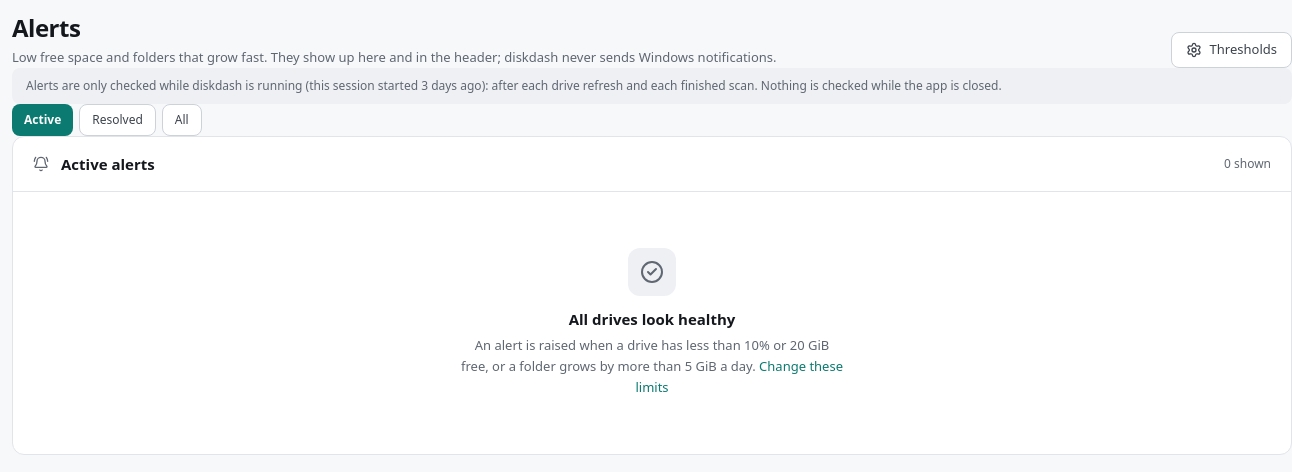
Test: AlertsPage › shows resolved alerts under their own filter
Click the button "Resolved". click: point(118, 120)
box: [79, 104, 156, 136]
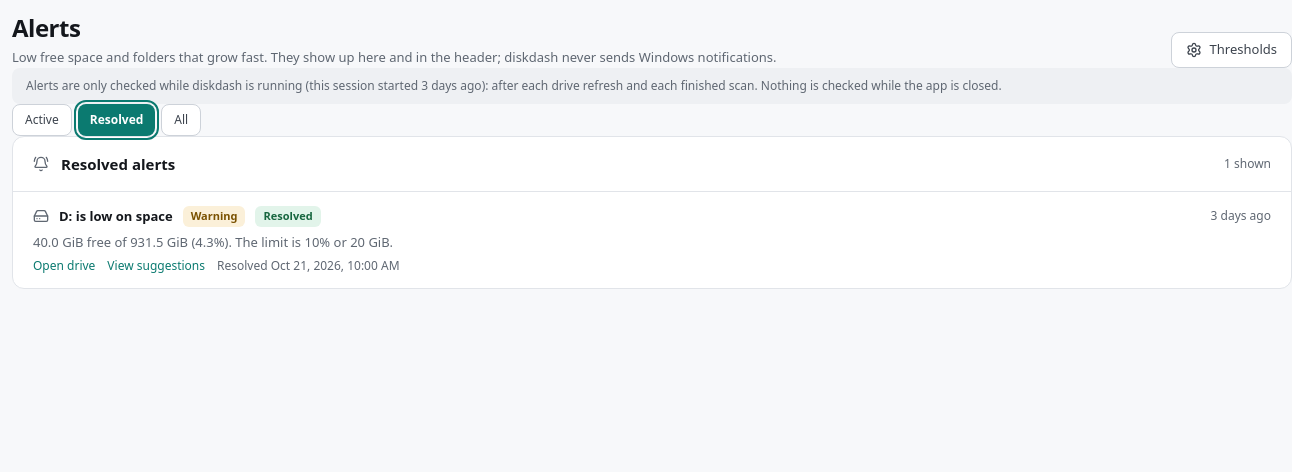
Expected: the text "Resolved" is shown, [256, 206, 321, 226]
